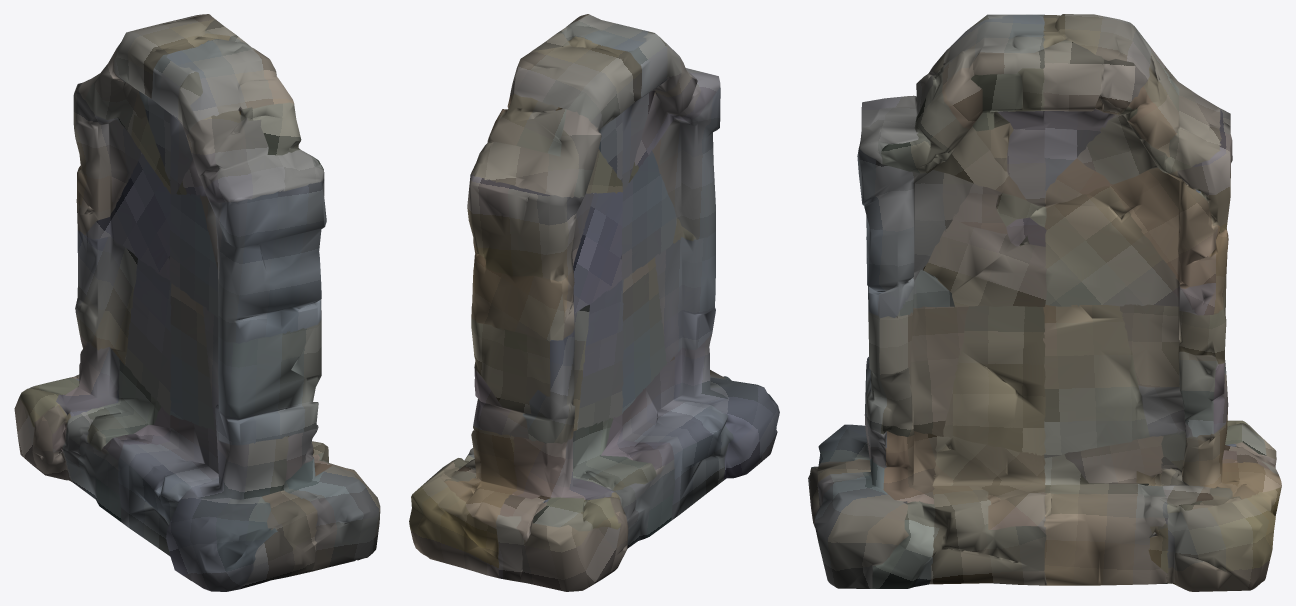
File: cracked_grave.glb
3 views of the same model, side by side, from view 1: azimuth 30°, elevation 25°; view 2: azimuth 150°, elevation 25°; view 3: azimuth 270°, elevation 25° (orthographic). The views are drawn at different scales.
Parts seen in each view (by area): view 1: tripo_node_ad50e039-1578-4216-ae62-b8a7fe105e23; view 2: tripo_node_ad50e039-1578-4216-ae62-b8a7fe105e23; view 3: tripo_node_ad50e039-1578-4216-ae62-b8a7fe105e23.
Part boxes in pixels (box(x1,y1,x2,y2)): tripo_node_ad50e039-1578-4216-ae62-b8a7fe105e23: box(14, 14, 380, 591); tripo_node_ad50e039-1578-4216-ae62-b8a7fe105e23: box(409, 14, 779, 591); tripo_node_ad50e039-1578-4216-ae62-b8a7fe105e23: box(808, 14, 1281, 591).
Bounding box in the file's own units: 0.4331 × 0.9993 × 0.8296.
1 material, 1 textured.
